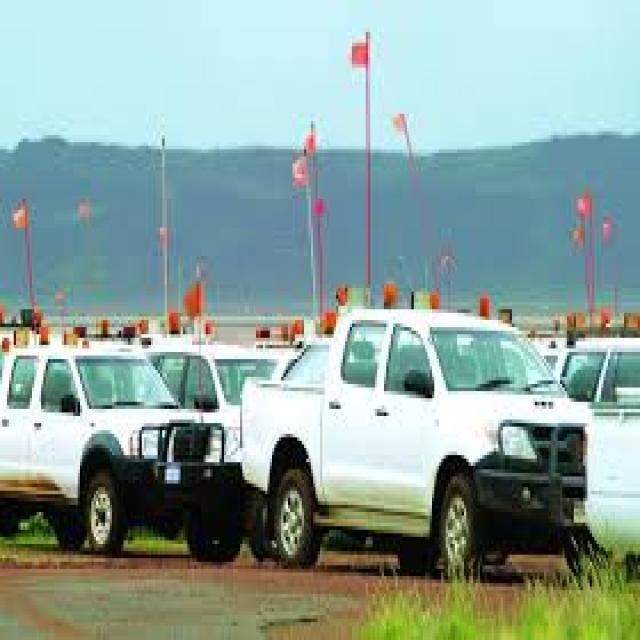light_vehicle: (233, 284, 604, 580), (2, 295, 242, 558)
